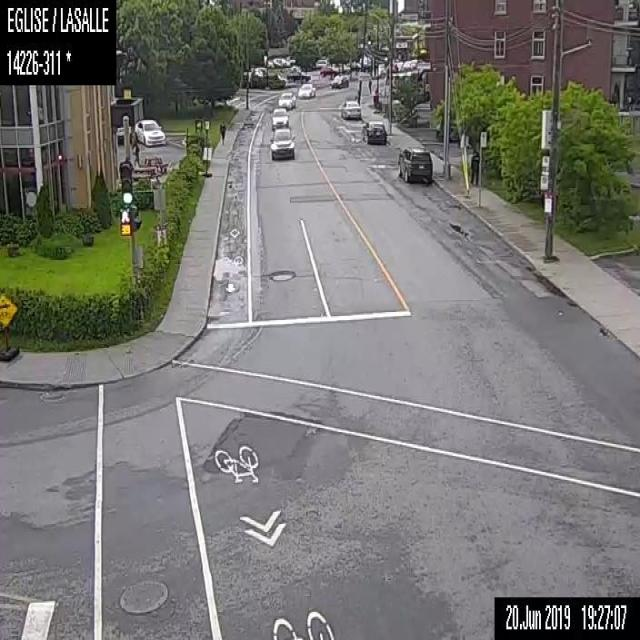pedestrian: (469, 149, 479, 187), (218, 117, 226, 148), (130, 139, 139, 165), (367, 79, 372, 93)
vehicle: (397, 144, 433, 183), (268, 125, 296, 159), (134, 118, 166, 146), (363, 117, 386, 144), (340, 97, 360, 119), (270, 106, 289, 126), (277, 90, 295, 110), (296, 81, 316, 99), (285, 66, 308, 81), (330, 71, 349, 88), (319, 64, 336, 74)
